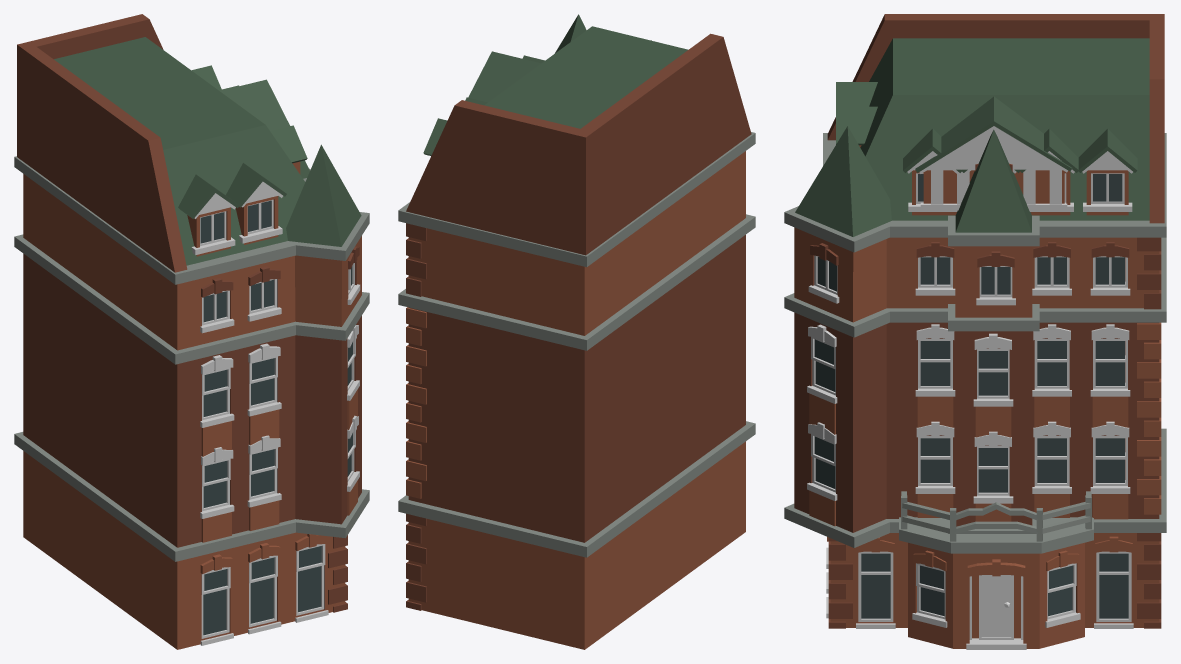
Rendered from House-1-2.glb.
3 views of the same model, side by side, from view 1: azimuth 30°, elevation 25°; view 2: azimuth 150°, elevation 25°; view 3: azimuth 270°, elevation 25° (orthographic). The views are drawn at different scales.
Parts seen in each view (by area): view 1: Main-1-2, RoofWindowsSide-1-2, RoofWindowBig-1-2, RoofWindowsFront-1-2; view 2: Main-1-2, RoofWindowBig-1-2, RoofWindowsFront-1-2; view 3: Main-1-2, FrontExtension-1-2, DoorExtension-1-2, RoofWindowBig-1-2, RoofWindowsFront-1-2, RoofWindowsSide-1-2.
Boxes of the visible parts, left/top/right/bottom form: Main-1-2: left=14, top=14, right=369, bottom=649; RoofWindowsSide-1-2: left=178, top=163, right=286, bottom=256; RoofWindowBig-1-2: left=220, top=79, right=289, bottom=130; RoofWindowsFront-1-2: left=191, top=65, right=307, bottom=174; Main-1-2: left=398, top=14, right=755, bottom=649; RoofWindowBig-1-2: left=468, top=51, right=540, bottom=102; RoofWindowsFront-1-2: left=423, top=55, right=544, bottom=155; Main-1-2: left=784, top=14, right=1166, bottom=628; FrontExtension-1-2: left=948, top=129, right=1039, bottom=533; DoorExtension-1-2: left=899, top=491, right=1093, bottom=649; RoofWindowBig-1-2: left=915, top=96, right=1072, bottom=215; RoofWindowsFront-1-2: left=903, top=128, right=1137, bottom=215; RoofWindowsSide-1-2: left=836, top=82, right=877, bottom=147.
Bounding box in the file's own units: 8.09 × 17.08 × 11.29.
Materials: 2 (2 with a texture image).
